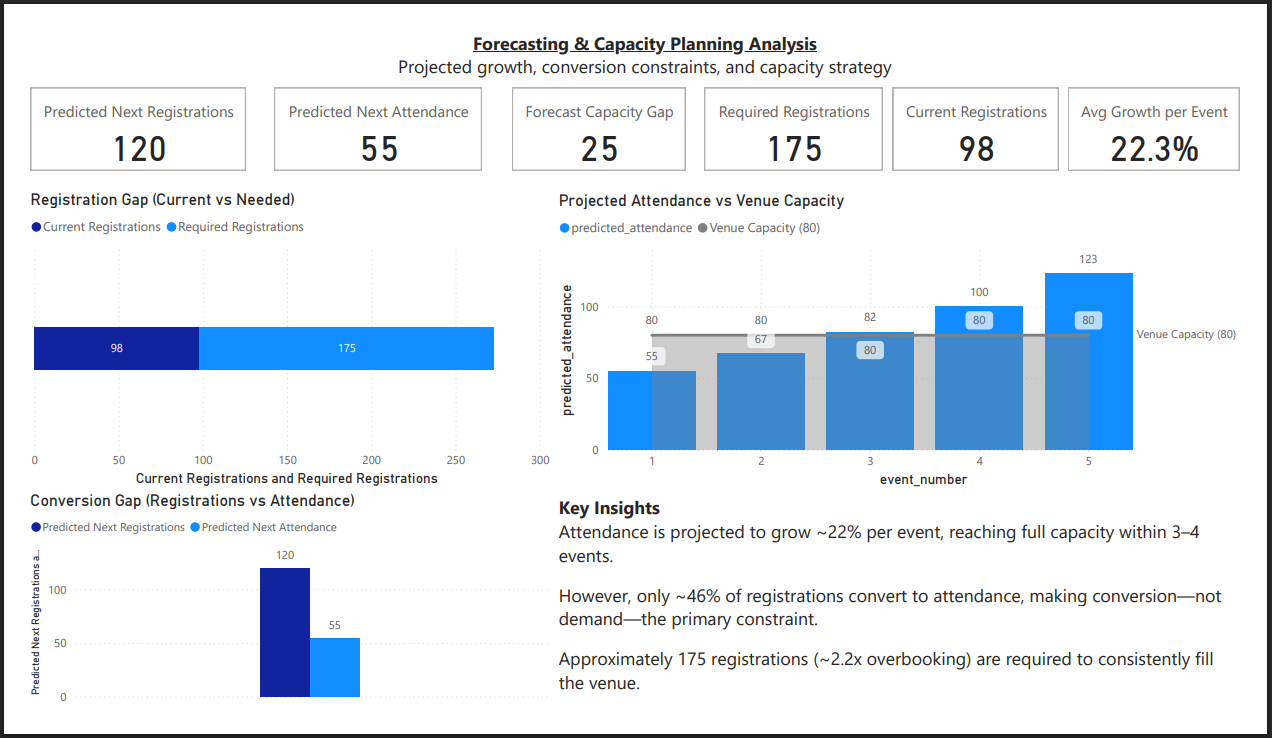

What the dashboard file says about the page in this screenshot:
{"tool":"powerbi","page":{"name":"Forecasting ","canvas":[1280,720],"ordinal":3},"visuals":[{"type":"cardVisual","fields":{"Data":["future_events.Predicted Next Registrations"]},"box":[0,60.3,236.6,97.2],"z":0},{"type":"cardVisual","fields":{"Data":["future_events.Forecast Capacity Gap"]},"box":[505.6,60.3,193,97.2],"z":1000},{"type":"cardVisual","fields":{"Data":["future_events.Growth Trend"]},"box":[1090.1,60.3,190.1,97.2],"z":2000},{"type":"cardVisual","fields":{"Data":["future_events.Predicted Next Attendance"]},"box":[256.3,60.3,228.2,97.2],"z":3000},{"type":"cardVisual","fields":{"Data":["future_events.Required Registrations"]},"box":[708.5,60.3,197.2,97.2],"z":4000},{"type":"cardVisual","fields":{"Data":["final_metrics.Current Registrations"]},"box":[905.6,60.3,184.5,97.2],"z":5000},{"type":"barChart","title":"Registration Gap (Current vs Needed)","fields":{"Y":["final_metrics.Current Registrations","future_events.Required Registrations"]},"box":[0,172.4,555.2,315.5],"z":6000},{"type":"clusteredColumnChart","title":"Conversion Gap (Registrations vs Attendance)","fields":{"Y":["future_events.Predicted Next Registrations","future_events.Predicted Next Attendance"]},"box":[0,487.9,555.2,231],"z":7000},{"type":"lineClusteredColumnComboChart","title":"Projected Attendance vs Venue Capacity","fields":{"Category":["future_events.event_number"],"Y":["Sum(future_events.predicted_attendance)"],"Y2":["final_metrics.Venue Capacity"]},"box":[554.9,173.2,725.4,315.5],"z":8000},{"type":"textbox","box":[555.2,487.9,725.9,231],"z":9000},{"type":"textbox","box":[285.9,0,729.6,62],"z":10000}]}

Visuals, with their boxes on the page's 1280x720 design canvas (x1, y1, x2, y2). These are canvas units, not pixel positions in the 1272x738 screenshot, which may show the page scaled, cropped or inside an application window:
cardVisual - future_events.Predicted Next Registrations: left=0, top=60, right=237, bottom=158
cardVisual - future_events.Forecast Capacity Gap: left=506, top=60, right=699, bottom=158
cardVisual - future_events.Growth Trend: left=1090, top=60, right=1280, bottom=158
cardVisual - future_events.Predicted Next Attendance: left=256, top=60, right=484, bottom=158
cardVisual - future_events.Required Registrations: left=708, top=60, right=906, bottom=158
cardVisual - final_metrics.Current Registrations: left=906, top=60, right=1090, bottom=158
"Registration Gap (Current vs Needed)" barChart: left=0, top=172, right=555, bottom=488
"Conversion Gap (Registrations vs Attendance)" clusteredColumnChart: left=0, top=488, right=555, bottom=719
"Projected Attendance vs Venue Capacity" lineClusteredColumnComboChart: left=555, top=173, right=1280, bottom=489
textbox: left=555, top=488, right=1281, bottom=719
textbox: left=286, top=0, right=1016, bottom=62
